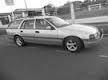car: (8, 16, 102, 55)
